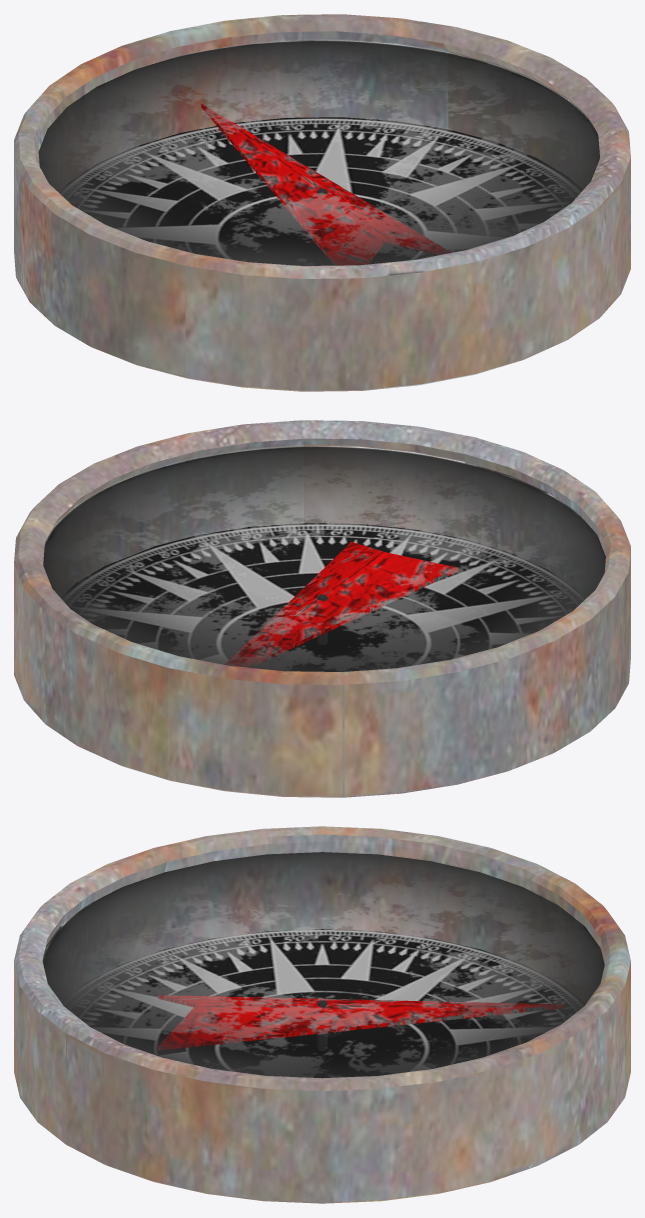
File: compass (1) (2).glb
The picture shows the model from 3 angles, top to bottom: view 1: azimuth 30°, elevation 25°; view 2: azimuth 150°, elevation 25°; view 3: azimuth 270°, elevation 25°; orthographic projection.
Parts seen in each view (by area): view 1: case, arrow; view 2: case, arrow; view 3: case, arrow.
Boxes of the visible parts, <box> form: case: <box>14,14,630,391</box>; arrow: <box>201,104,450,264</box>; case: <box>14,420,630,797</box>; arrow: <box>227,541,458,665</box>; case: <box>14,826,630,1203</box>; arrow: <box>158,995,563,1049</box>.
Size of the model in its own units: 2 by 0.4337 by 2.
Materials: 3 (2 with a texture image).
